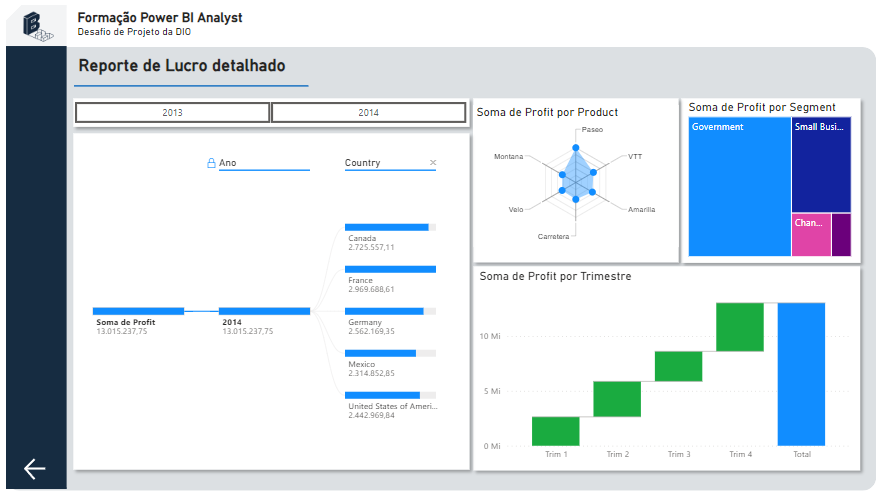

Layout of this report page (visuals, bound fields, positions):
{"tool":"powerbi","page":{"name":"Página 2","canvas":[1280,720],"ordinal":1},"visuals":[{"type":"group","id":"g1","title":"Background","box":[22.9,14.2,1243.6,693.5],"z":0},{"type":"shape","box":[23.1,14.2,86.9,691.6],"z":0,"group":"g1"},{"type":"shape","box":[119.7,108.6,334.8,42.5],"z":0,"group":"g2"},{"type":"shape","box":[978.5,138.5,273.8,253.1],"z":0,"group":"g3"},{"type":"shape","box":[681.2,138.8,311.1,252.2],"z":0,"group":"g4"},{"type":"shape","box":[110,189.2,583.8,498.5],"z":0,"group":"g6"},{"type":"shape","box":[681.5,378.5,570.5,309.5],"z":0,"group":"g5"},{"type":"shape","box":[22.9,14.5,88,59.1],"z":1000,"group":"g1"},{"type":"group","id":"g2","title":"Titulo","box":[119.7,81.1,334.8,70.1],"z":1000},{"type":"textbox","box":[121.5,81.1,332.9,53.6],"z":1000,"group":"g2"},{"type":"shape","box":[110,138.8,583.8,58.8],"z":1000,"group":"g3"},{"type":"RadarChart1446119667547","fields":{"Y":["Sum(financials.Profit)"],"Category":["financials.Product"]},"box":[690,157.4,293.8,202.5],"z":1000,"group":"g4"},{"type":"decompositionTreeVisual","fields":{"ExplainBy":["financials.Date.Variation.Hierarquia de datas.Ano","financials.Country"],"Analyze":["Sum(financials.Profit)"]},"box":[117.5,215,571.2,470],"z":1000,"group":"g6"},{"type":"waterfallChart","fields":{"Y":["Sum(financials.Profit)"],"Category":["financials.Date.Variation.Hierarquia de datas.Trimestre"]},"box":[693.7,391.3,541.2,282.5],"z":1000,"group":"g5"},{"type":"shape","box":[23.4,73.9,1243.1,633.8],"z":2000,"group":"g1"},{"type":"actionButton","title":"Botao - Tree","box":[121.7,152.1,279.1,29.9],"z":2000,"group":"g3"},{"type":"actionButton","box":[44.4,656.6,51.8,40.7],"z":2000},{"type":"image","box":[42.5,15.8,53.2,57.6],"z":3000,"group":"g1"},{"type":"group","id":"g3","title":"Seletor de Ano","box":[110,138.5,1142.3,253.1],"z":3000},{"type":"actionButton","title":"Botao - Tree","box":[401.9,152.1,279.1,29.9],"z":3000,"group":"g3"},{"type":"textbox","box":[120.4,15.2,384.7,58.1],"z":4000,"group":"g1"},{"type":"group","id":"g4","title":"Profit por produto","box":[681.2,138.8,311.1,252.2],"z":4000},{"type":"group","id":"g5","title":"Profit por trimestre","box":[681.5,378.5,570.5,309.5],"z":5000},{"type":"group","id":"g6","title":"Arvore Ano País","box":[110,189.2,583.8,498.5],"z":6000},{"type":"treemap","fields":{"Values":["Sum(financials.Profit)"],"Group":["financials.Segment"]},"box":[992.5,150,242.5,228.8],"z":6001}]}

Visuals, with their boxes on the page's 1280x720 design canvas (x1, y1, x2, y2). These are canvas units, not pixel positions in the 886x496 screenshot, which may show the page scaled, cropped or inside an application window:
"Background" group: (left=23, top=14, right=1266, bottom=708)
shape: (left=23, top=14, right=110, bottom=706)
shape: (left=120, top=109, right=454, bottom=151)
shape: (left=978, top=138, right=1252, bottom=392)
shape: (left=681, top=139, right=992, bottom=391)
shape: (left=110, top=189, right=694, bottom=688)
shape: (left=682, top=378, right=1252, bottom=688)
shape: (left=23, top=14, right=111, bottom=74)
"Titulo" group: (left=120, top=81, right=454, bottom=151)
textbox: (left=122, top=81, right=454, bottom=135)
shape: (left=110, top=139, right=694, bottom=198)
RadarChart1446119667547 - Sum(financials.Profit) x financials.Product: (left=690, top=157, right=984, bottom=360)
decompositionTreeVisual - financials.Date.Variation.Hierarquia de datas.Ano x financials.Country: (left=118, top=215, right=689, bottom=685)
waterfallChart - Sum(financials.Profit) x financials.Date.Variation.Hierarquia de datas.Trimestre: (left=694, top=391, right=1235, bottom=674)
shape: (left=23, top=74, right=1266, bottom=708)
"Botao - Tree" actionButton: (left=122, top=152, right=401, bottom=182)
actionButton: (left=44, top=657, right=96, bottom=697)
image: (left=42, top=16, right=96, bottom=73)
"Seletor de Ano" group: (left=110, top=138, right=1252, bottom=392)
"Botao - Tree" actionButton: (left=402, top=152, right=681, bottom=182)
textbox: (left=120, top=15, right=505, bottom=73)
"Profit por produto" group: (left=681, top=139, right=992, bottom=391)
"Profit por trimestre" group: (left=682, top=378, right=1252, bottom=688)
"Arvore Ano País" group: (left=110, top=189, right=694, bottom=688)
treemap - Sum(financials.Profit) x financials.Segment: (left=992, top=150, right=1235, bottom=379)
